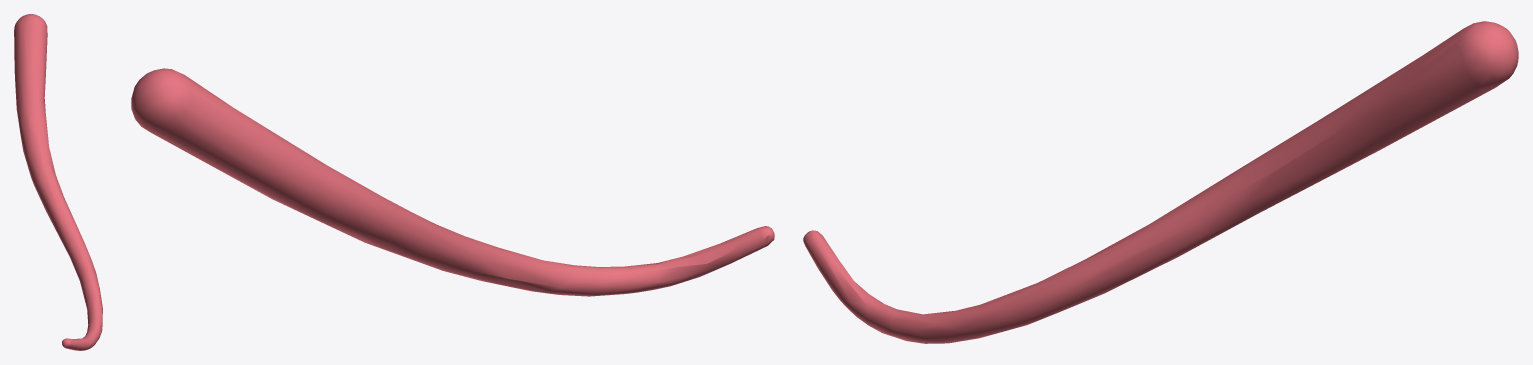
Rendered from fma68693_fj2990.glb.
3 views of the same model, side by side, from view 1: azimuth 30°, elevation 25°; view 2: azimuth 150°, elevation 25°; view 3: azimuth 270°, elevation 25° (orthographic). The views are drawn at different scales.
Visible parts, largest first — view 1: FMA68693_FJ2990; view 2: FMA68693_FJ2990; view 3: FMA68693_FJ2990.
Boxes of the visible parts, x1,y1,x2,y2 form: FMA68693_FJ2990: [14, 14, 102, 350]; FMA68693_FJ2990: [131, 68, 774, 296]; FMA68693_FJ2990: [803, 21, 1518, 343].
Bounding box in the file's own units: 0.0405 × 0.0506 × 0.0831.
